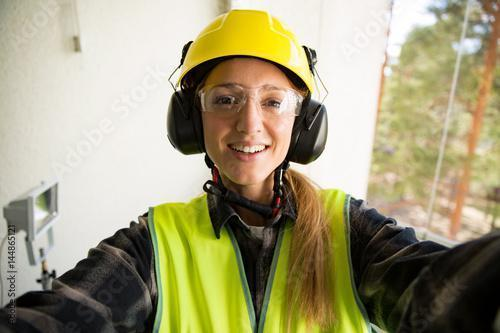helmet: (175, 10, 318, 99)
